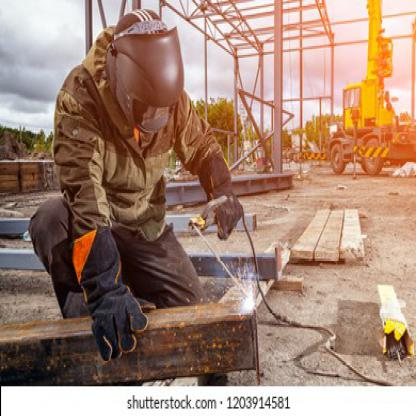glove: (70, 226, 150, 361), (198, 154, 244, 240)
